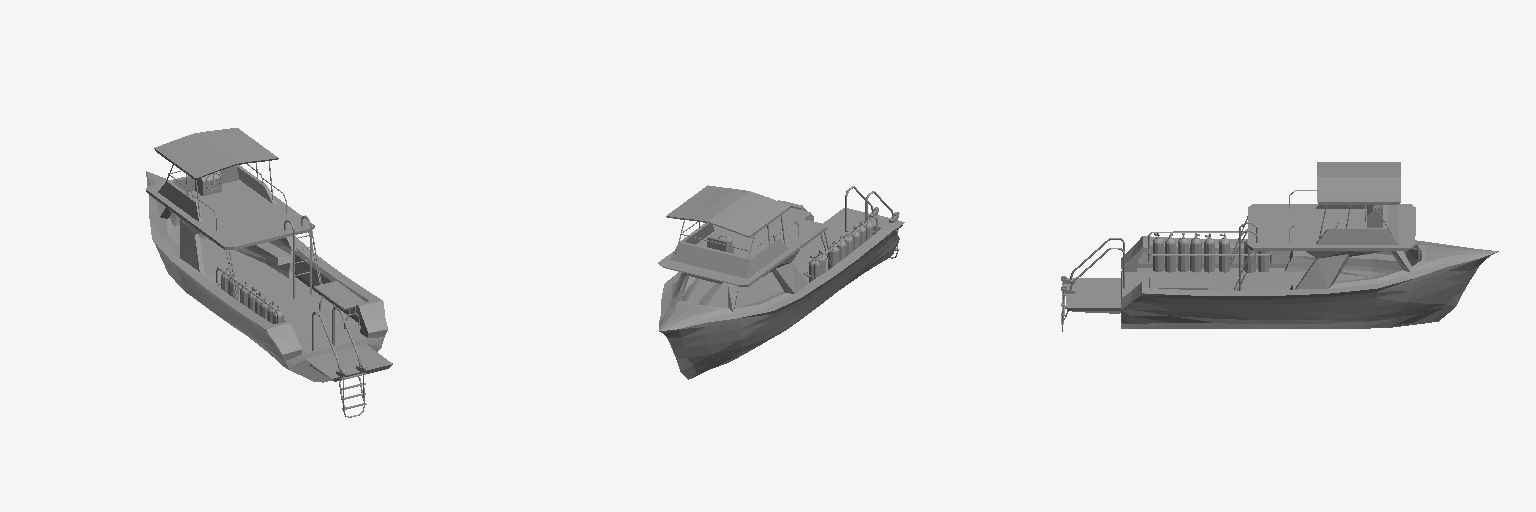
The model's file is boat_baseTank9.obj.
3 views of the same model, side by side, from view 1: azimuth 30°, elevation 25°; view 2: azimuth 150°, elevation 25°; view 3: azimuth 270°, elevation 25° (orthographic).
Visible parts, largest first — view 1: boat_base:Tank9; view 2: boat_base:Tank9; view 3: boat_base:Tank9.
Boxes of the visible parts, x1,y1,x2,y2 form: boat_base:Tank9: [146, 128, 392, 417]; boat_base:Tank9: [658, 185, 904, 379]; boat_base:Tank9: [1061, 162, 1498, 331].
Size of the model in its own units: 285 by 359 by 906.